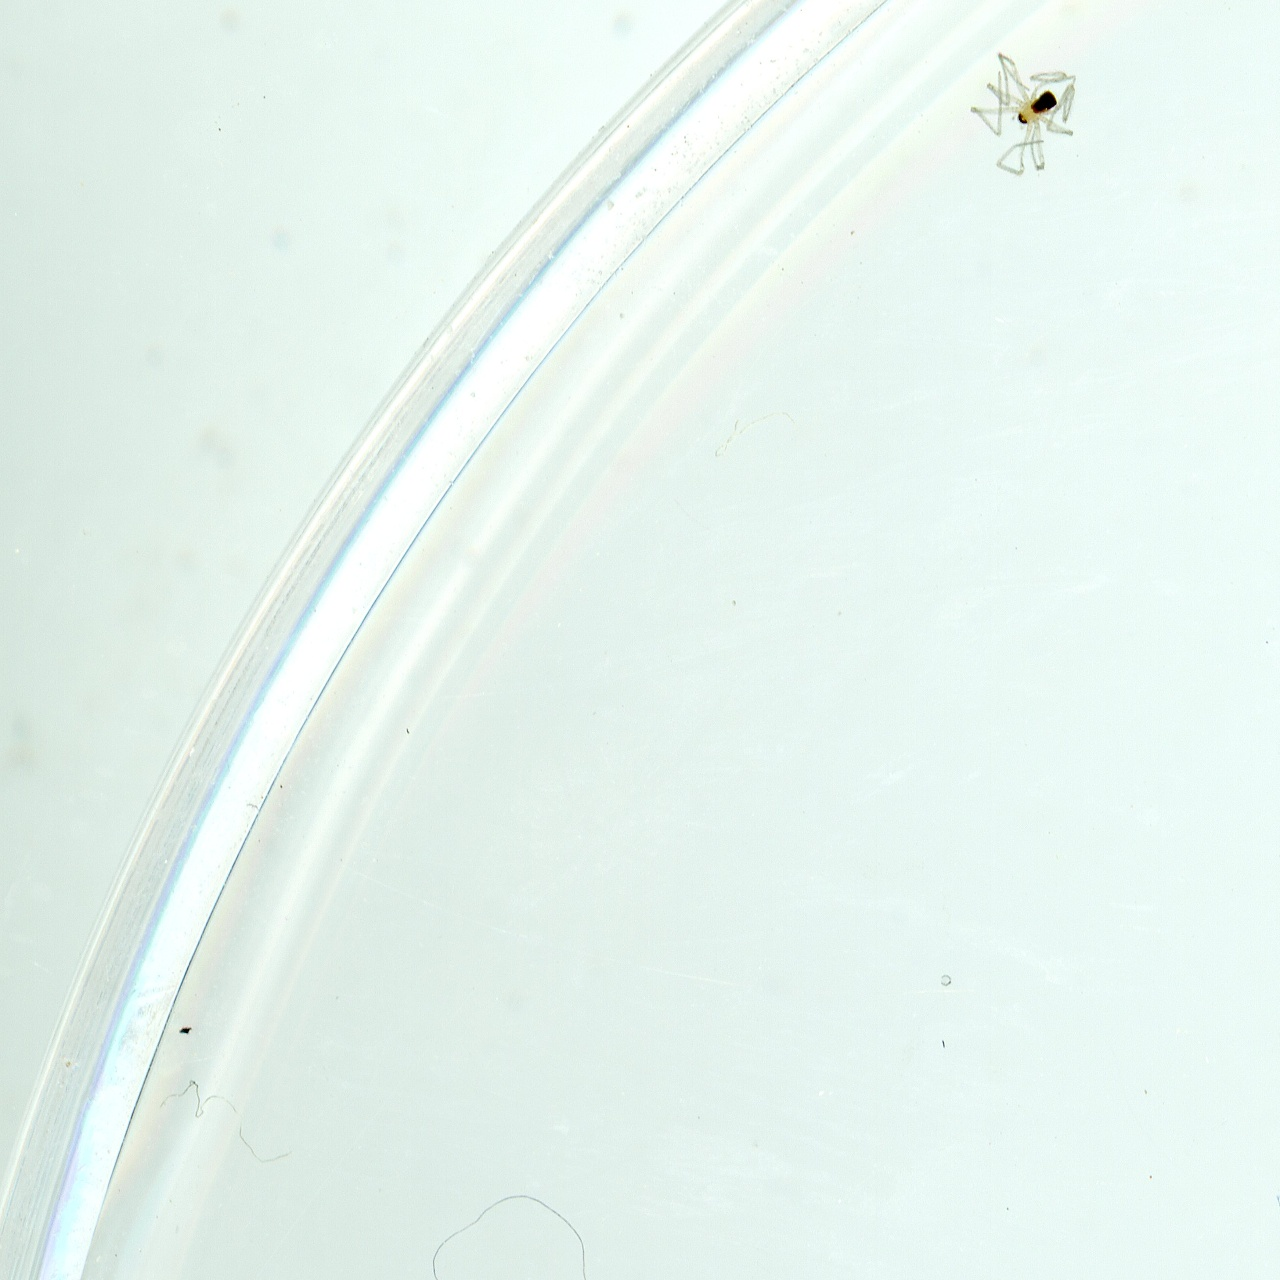arthropod: (956, 43, 1087, 178)
